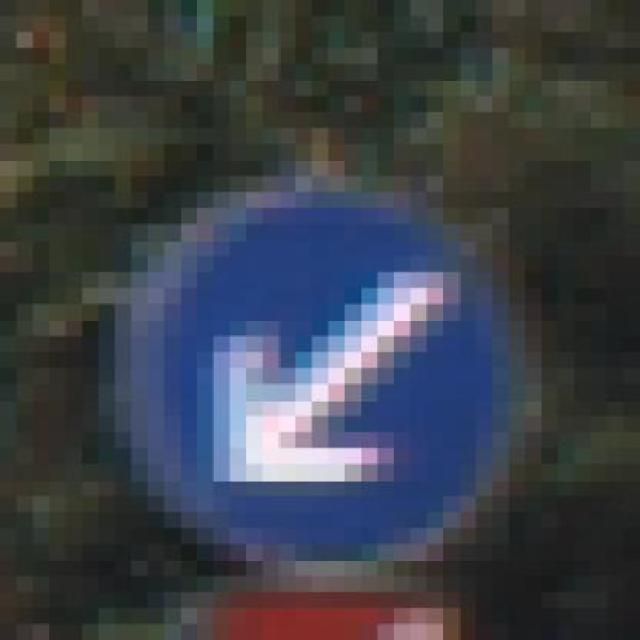Keep-Left: (99, 144, 542, 576)
